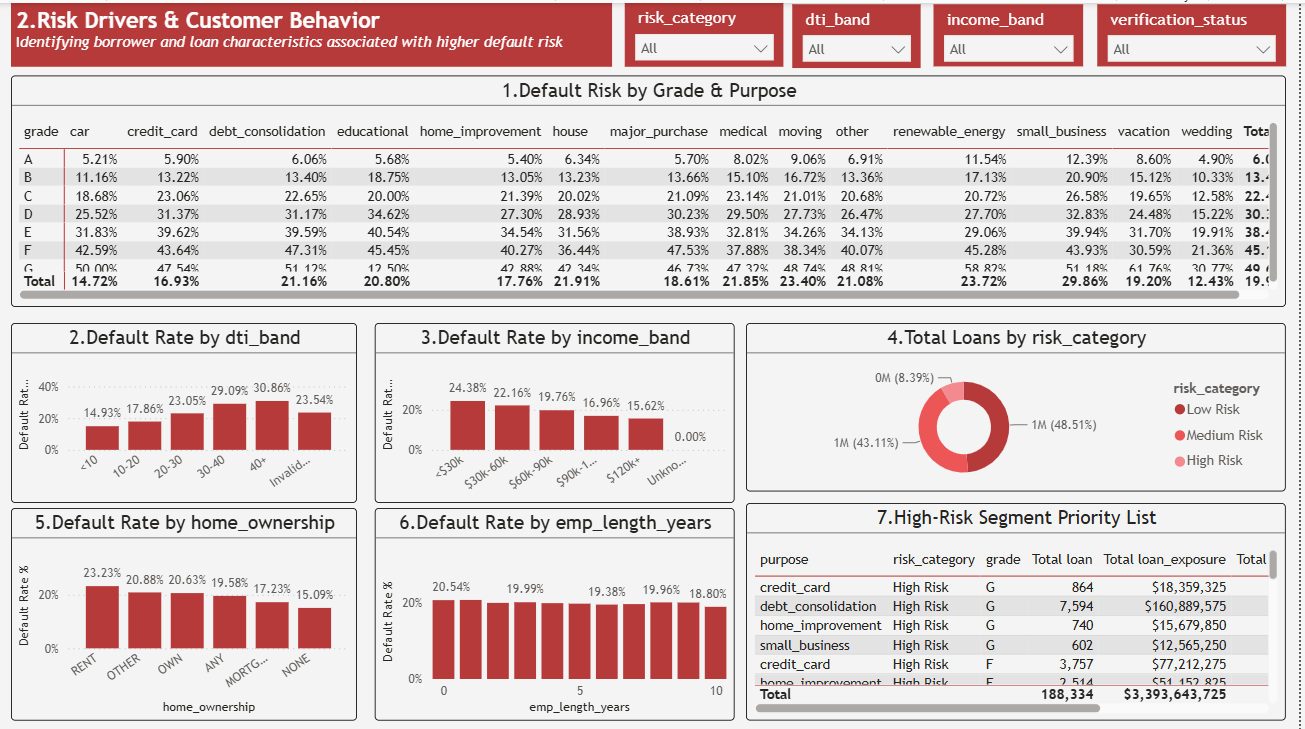

This screenshot's page, from the dashboard's own definition file:
{"tool":"powerbi","page":{"name":"Risk Drivers & Customer Behavior","canvas":[1280,720],"ordinal":1},"visuals":[{"type":"textbox","box":[19.6,0,588.2,62.4],"z":0},{"type":"slicer","fields":{"Values":["loans.risk_category"]},"box":[620,0,155.3,62.4],"z":1000},{"type":"slicer","fields":{"Values":["loans.dti_band"]},"box":[783.8,1.2,126,62.4],"z":2000},{"type":"slicer","fields":{"Values":["loans.income_band"]},"box":[922,1.2,146.7,61.1],"z":3000},{"type":"slicer","fields":{"Values":["loans.verification_status"]},"box":[1082.2,1.2,184.6,61.1],"z":4000},{"type":"pivotTable","title":"1.Default Risk by Grade & Purpose","fields":{"Rows":["loans.grade"],"Columns":["loans.purpose"],"Values":["_Measures.Default Rate %"]},"box":[19.6,70.9,1247.3,226.2],"z":5000},{"type":"clusteredColumnChart","title":"2.Default Rate  by dti_band","fields":{"Category":["loans.dti_band"],"Y":["_Measures.Default Rate %"]},"box":[19.6,313,338.7,176.1],"z":6000},{"type":"clusteredColumnChart","title":"3.Default Rate by income_band","fields":{"Category":["loans.income_band"],"Y":["_Measures.Default Rate %"]},"box":[375.4,313,352.2,176.1],"z":7000},{"type":"clusteredColumnChart","title":"5.Default Rate by home_ownership","fields":{"Category":["loans.home_ownership"],"Y":["_Measures.Default Rate %"]},"box":[19.6,494,338.7,207.9],"z":8000},{"type":"clusteredColumnChart","title":"6.Default Rate by emp_length_years","fields":{"Category":["loans.emp_length_years"],"Y":["_Measures.Default Rate %"]},"box":[375.4,494,352.2,207.9],"z":9000},{"type":"donutChart","title":"4.Total Loans by risk_category","fields":{"Category":["loans.risk_category"],"Y":["_Measures.Total Loans"]},"box":[738.6,313,528.3,165.1],"z":10000},{"type":"tableEx","title":"7.High-Risk Segment Priority List","fields":{"Values":["high_risk_segment_table.purpose","high_risk_segment_table.risk_category","high_risk_segment_table.grade","Sum(high_risk_segment_table.loan_count)","Sum(high_risk_segment_table.loan_exposure)","Sum(high_risk_segment_table.default_rate_pct)","Sum(high_risk_segment_table.avg_loan)"]},"box":[738.6,489.1,528.3,212.8],"z":11000}]}

Visuals, with their boxes in screenshot pixels (x1, y1, x2, y2), scaled from the page's 1280x720 canvas onto the 1305x729 screenshot:
textbox: [20,0,620,63]
slicer - loans.risk_category: [632,0,790,63]
slicer - loans.dti_band: [799,1,928,64]
slicer - loans.income_band: [940,1,1090,63]
slicer - loans.verification_status: [1103,1,1292,63]
"1.Default Risk by Grade & Purpose" pivotTable: [20,72,1292,301]
"2.Default Rate  by dti_band" clusteredColumnChart: [20,317,365,495]
"3.Default Rate by income_band" clusteredColumnChart: [383,317,742,495]
"5.Default Rate by home_ownership" clusteredColumnChart: [20,500,365,711]
"6.Default Rate by emp_length_years" clusteredColumnChart: [383,500,742,711]
"4.Total Loans by risk_category" donutChart: [753,317,1292,484]
"7.High-Risk Segment Priority List" tableEx: [753,495,1292,711]
